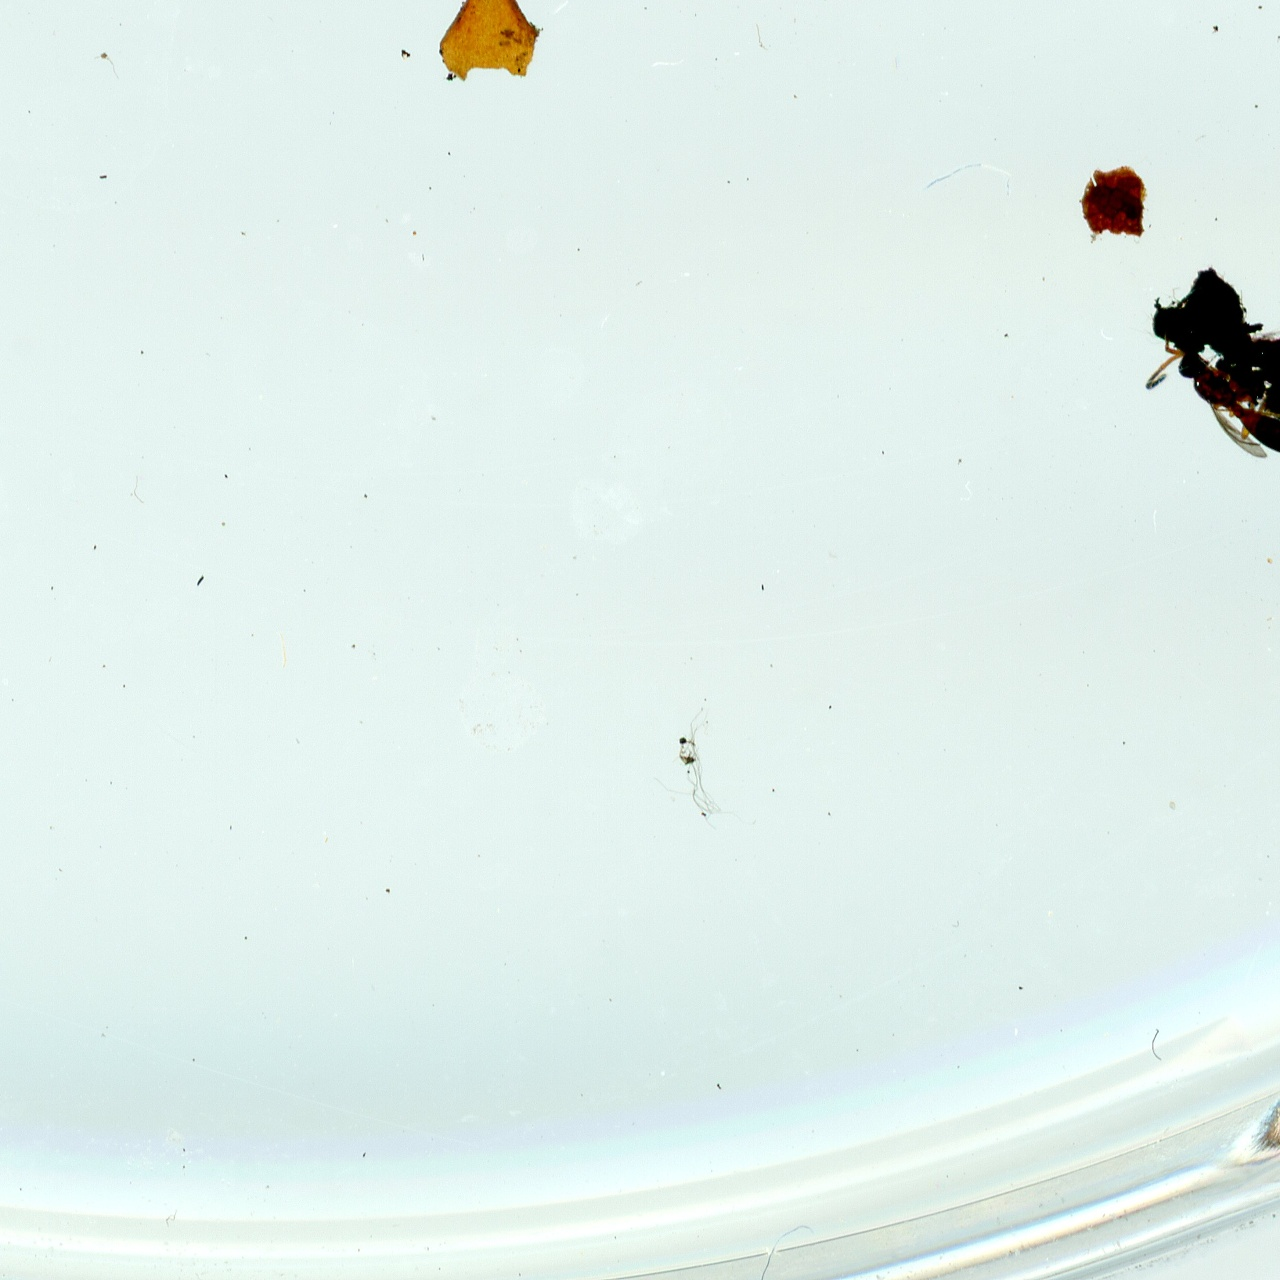arthropod: (1136, 327, 1280, 509)
